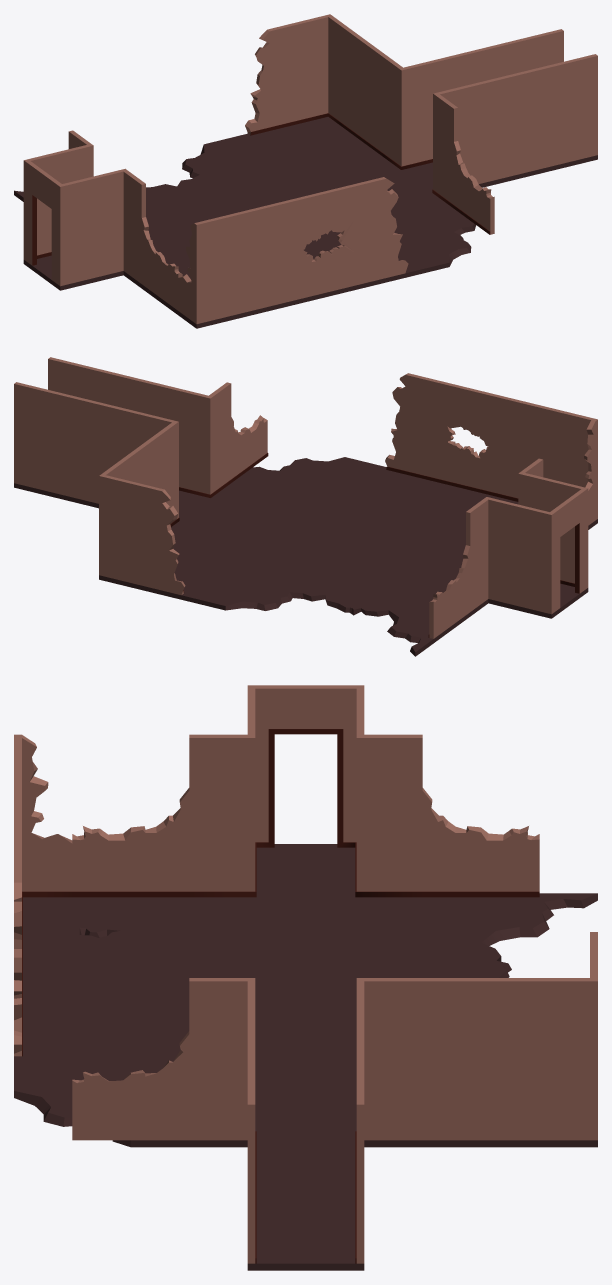
File: Depression_Murs.fbx
3 views of the same model, one above another, from view 1: azimuth 30°, elevation 25°; view 2: azimuth 150°, elevation 25°; view 3: azimuth 270°, elevation 25° (orthographic). The views are drawn at different scales.
Parts seen in each view (by area): view 1: Depression_Murs; view 2: Depression_Murs; view 3: Depression_Murs.
Part boxes in pixels (x1,y1,x2,y2): Depression_Murs: (14,14,597,328); Depression_Murs: (14,357,597,656); Depression_Murs: (14,685,597,1270).
Bounding box in the file's own units: 1700 × 313 × 1000.
